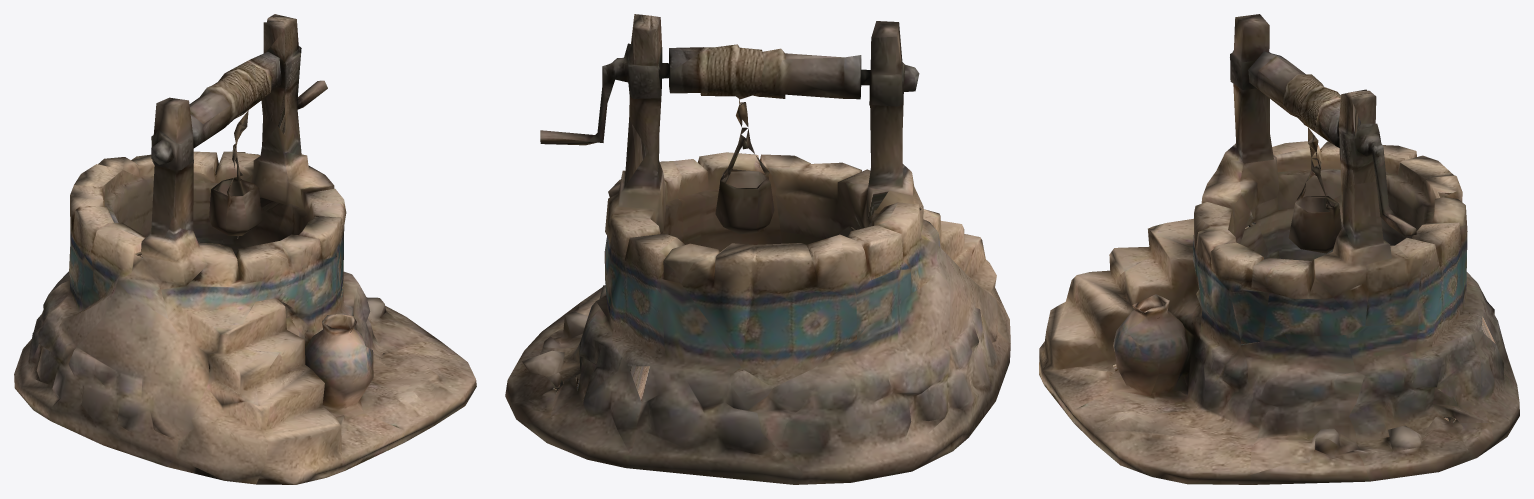
The model's file is well_qanat.glb.
3 views of the same model, side by side, from view 1: azimuth 30°, elevation 25°; view 2: azimuth 150°, elevation 25°; view 3: azimuth 270°, elevation 25° (orthographic). The views are drawn at different scales.
Parts seen in each view (by area): view 1: tripo_node_9f9c3cf7-a97b-4300-ae4a-6f76fc425e5d; view 2: tripo_node_9f9c3cf7-a97b-4300-ae4a-6f76fc425e5d; view 3: tripo_node_9f9c3cf7-a97b-4300-ae4a-6f76fc425e5d.
Boxes of the visible parts, bbox=[...] form: tripo_node_9f9c3cf7-a97b-4300-ae4a-6f76fc425e5d: bbox=[14, 14, 476, 484]; tripo_node_9f9c3cf7-a97b-4300-ae4a-6f76fc425e5d: bbox=[505, 14, 1010, 484]; tripo_node_9f9c3cf7-a97b-4300-ae4a-6f76fc425e5d: bbox=[1039, 14, 1519, 484].
Size of the model in its own units: 0.9001 by 0.7538 by 0.9765.
Materials: 1 (1 with a texture image).
